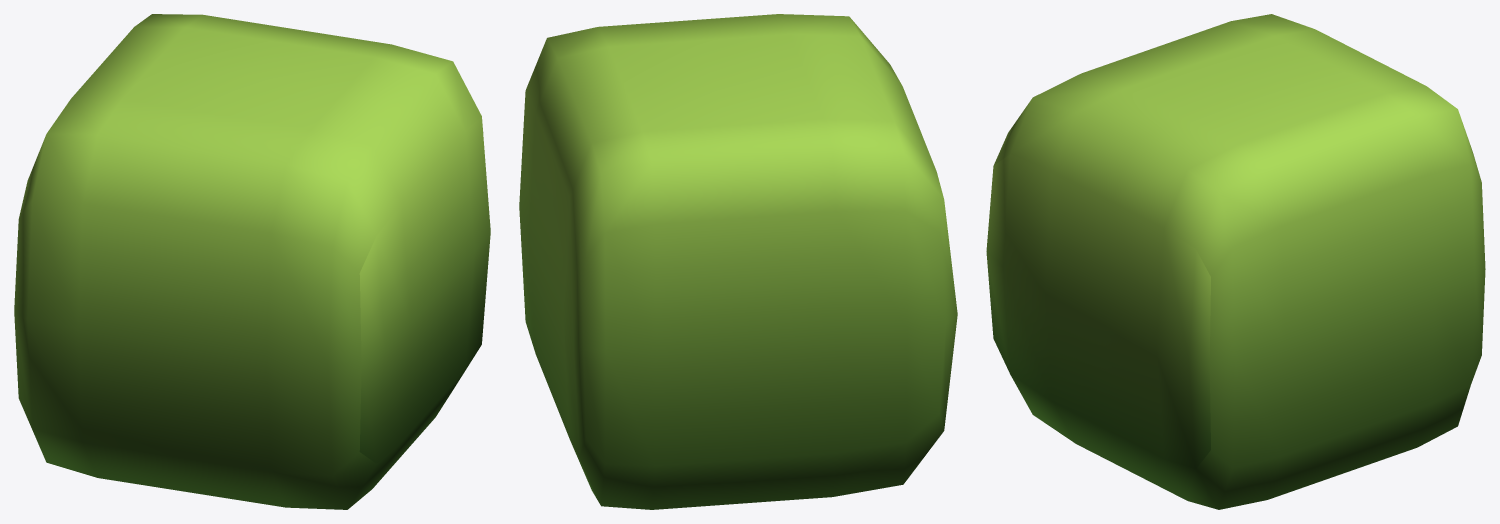
The model's file is tree 4.fbx.
The picture shows the model from 3 angles, left to right: view 1: azimuth 30°, elevation 25°; view 2: azimuth 150°, elevation 25°; view 3: azimuth 270°, elevation 25°; orthographic projection. The views are drawn at different scales.
Parts seen in each view (by area): view 1: Cube.009; view 2: Cube.009; view 3: Cube.009.
Part boxes in pixels (bbox=[...]): Cube.009: bbox=[14, 14, 490, 509]; Cube.009: bbox=[519, 14, 957, 509]; Cube.009: bbox=[986, 14, 1485, 509].
Size of the model in its own units: 1.08 by 0.8282 by 1.08.
Materials: 1 (1 with a texture image).
